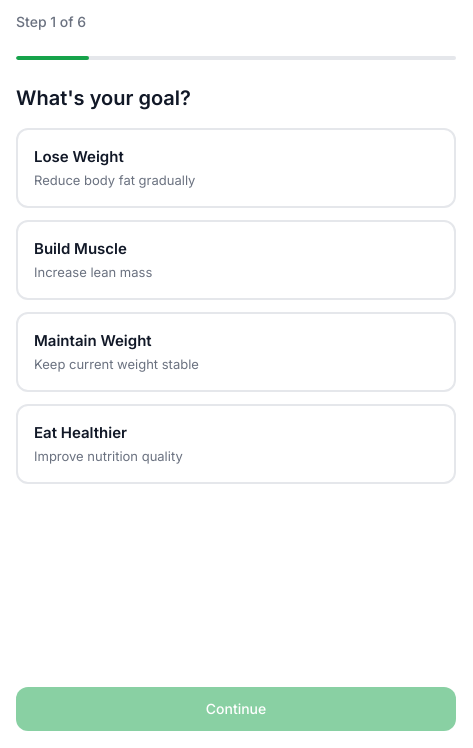
OnboardingWizard — step navigation › advances to step 2 after selecting a goal
Step 1. Click the text "Lose Weight" → click(79, 156), box [34, 147, 124, 166]
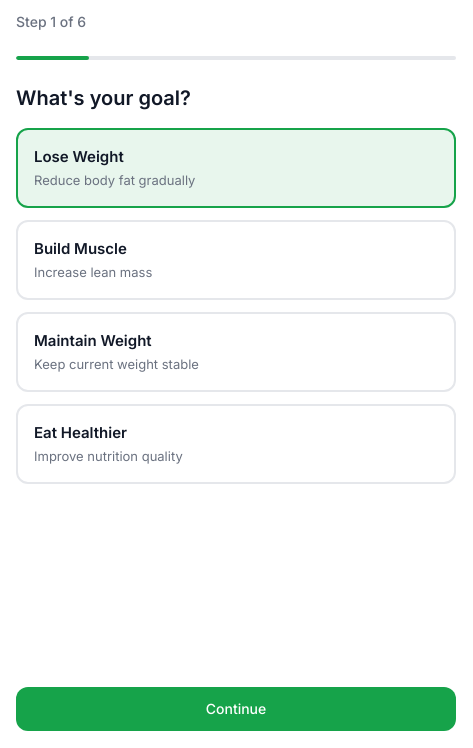
Step 2. Click the button "Continue" → click(236, 709), box [16, 687, 456, 731]
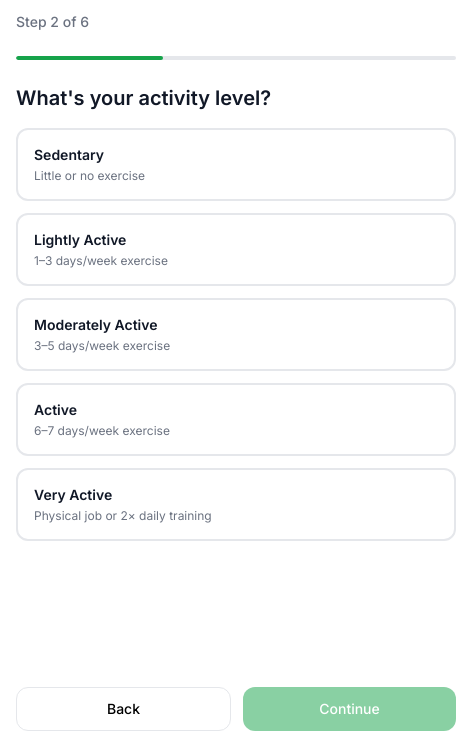
expect the heading "What's your activity level?" is shown: met, box [16, 86, 271, 110]
